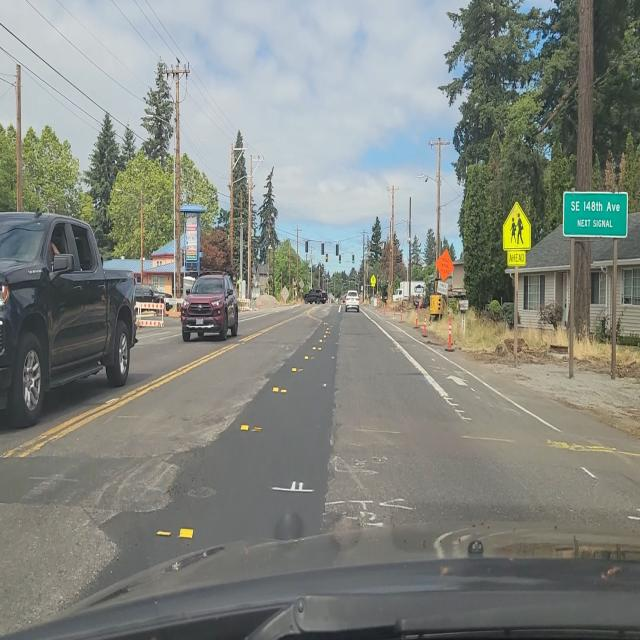car: (2, 211, 131, 423), (181, 272, 238, 342), (134, 284, 168, 315), (304, 288, 328, 305), (345, 292, 360, 313)
crosswalk-sign: (371, 275, 376, 286)
delineator: (502, 202, 531, 267), (444, 314, 455, 352), (422, 312, 428, 337), (414, 307, 419, 328), (399, 305, 402, 322), (383, 302, 387, 314), (393, 304, 396, 318), (258, 298, 261, 309)
